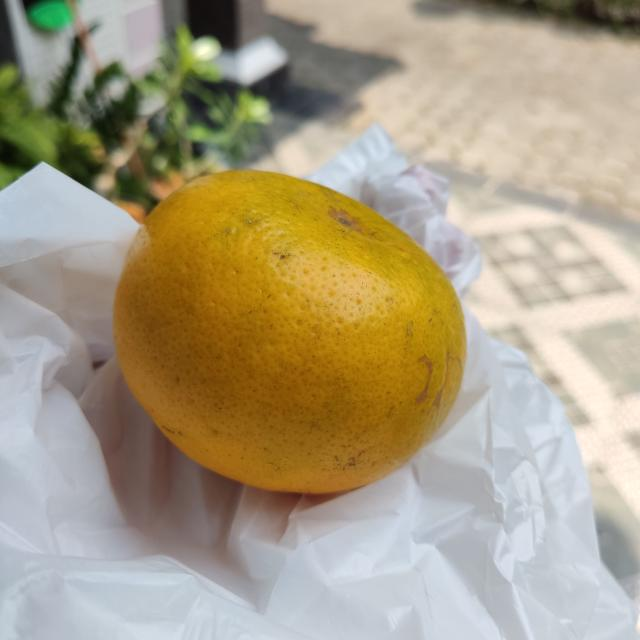orange: (107, 166, 470, 504)
